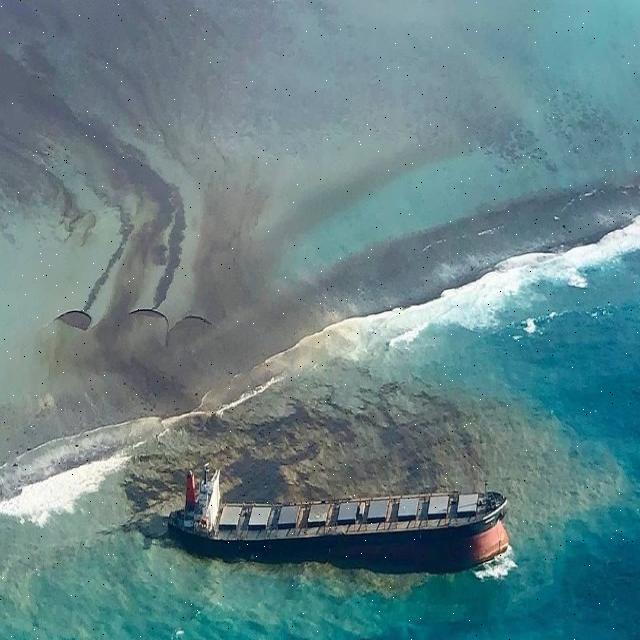truecolor: (134, 368, 539, 515)
